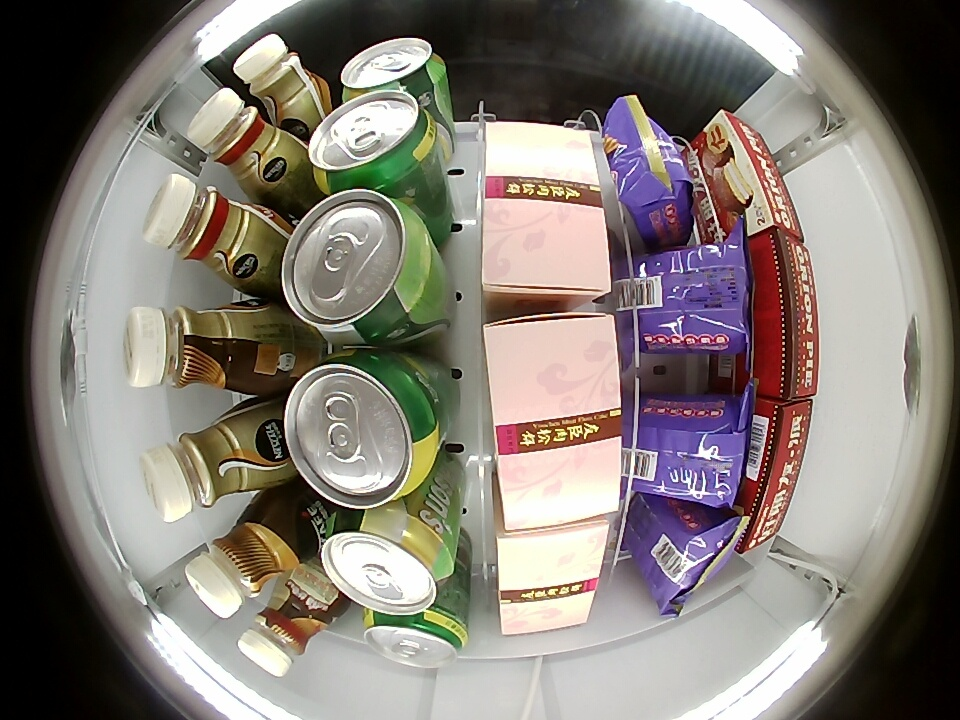haoliyou: (699, 109, 805, 244), (734, 397, 814, 558), (750, 231, 819, 401)
kafei: (139, 408, 280, 523), (142, 173, 280, 289), (121, 302, 271, 394), (188, 87, 297, 199), (185, 516, 293, 619), (234, 34, 331, 124), (237, 591, 328, 678)
kaomo_jiaoyan: (626, 394, 754, 507), (601, 95, 695, 247), (625, 243, 751, 356), (639, 499, 744, 612)
quchenshixiangcao: (280, 188, 432, 343), (321, 509, 450, 615), (339, 36, 445, 103)
rousongbing: (486, 310, 625, 536), (481, 118, 611, 300), (495, 519, 612, 637)
xuebi2: (283, 351, 442, 509), (308, 89, 439, 194), (363, 606, 469, 668)
